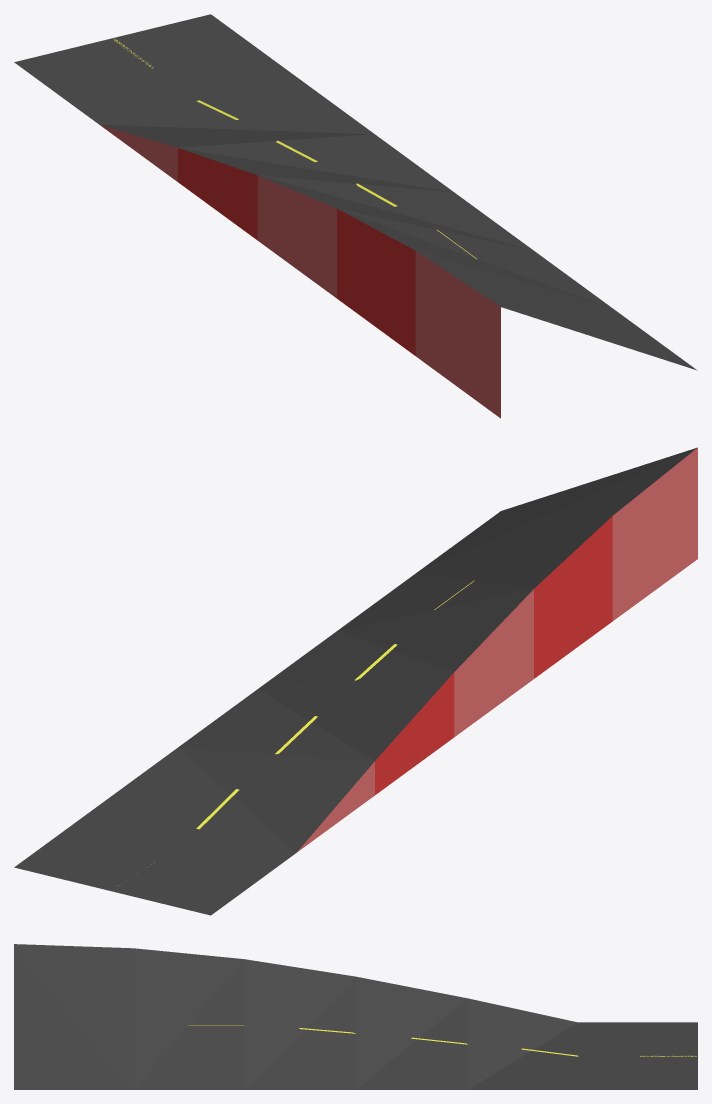
File: rban.obj
The picture shows the model from 3 angles, top to bottom: view 1: azimuth 30°, elevation 25°; view 2: azimuth 150°, elevation 25°; view 3: azimuth 270°, elevation 25°; orthographic projection. The views are drawn at different scales.
Bounding box in the file's own units: 240 × 130 × 1028.
